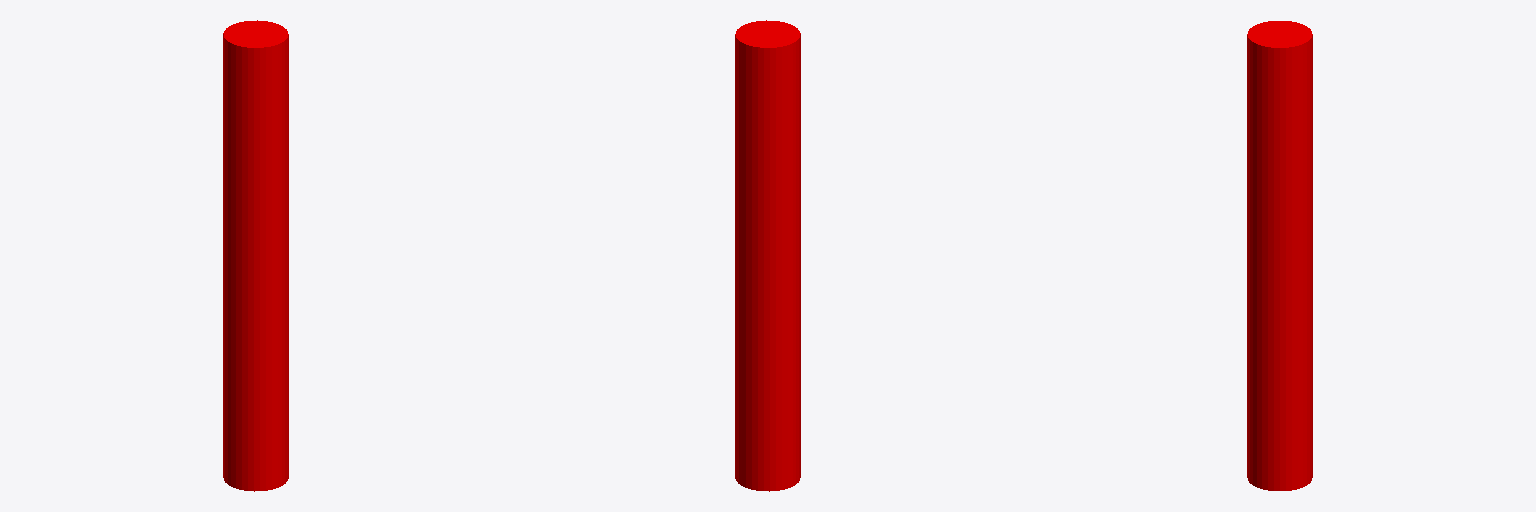
robot.urdf — myfirst:
<?xml version="1.0"?>
 <robot name="myfirst">

   <material name="blue">
     <color rgba="1 0 0 0.8"/>
   </material>

   <link name="base_link">
     <visual>
       <geometry>
         <cylinder length="0.3" radius="0.02"/>
       </geometry>
       <material name="blue"/>
     </visual>

     <collision>
       <geometry>
         <cylinder length="0.3" radius="0.02"/>
       </geometry>
     </collision>
     <inertial>
       <mass value="1"/>
       <inertia ixx="1.0" ixy="0.0" ixz="0.0" iyy="1.0" iyz="0.0" izz="1.0"/>
     </inertial>
   </link>

 </robot>

--- Render facts (derived) ---
The picture shows the robot from 3 angles, left to right: view 1: azimuth 30°, elevation 25°; view 2: azimuth 150°, elevation 25°; view 3: azimuth 270°, elevation 25°; orthographic projection.
Model myfirst with 1 links and 0 joints (none), rooted at base_link, posed all joints at 0.
Visible links, largest first — view 1: base_link; view 2: base_link; view 3: base_link.
Boxes of the visible links, box(x1,y1,x2,y2) form: base_link: box(223, 20, 288, 491); base_link: box(735, 20, 800, 491); base_link: box(1247, 21, 1312, 490).
Bounding box of the posed robot: 0.04 × 0.04 × 0.3 m (x, y, z).
Geometry: primitives only (box / cylinder / sphere), no mesh files.